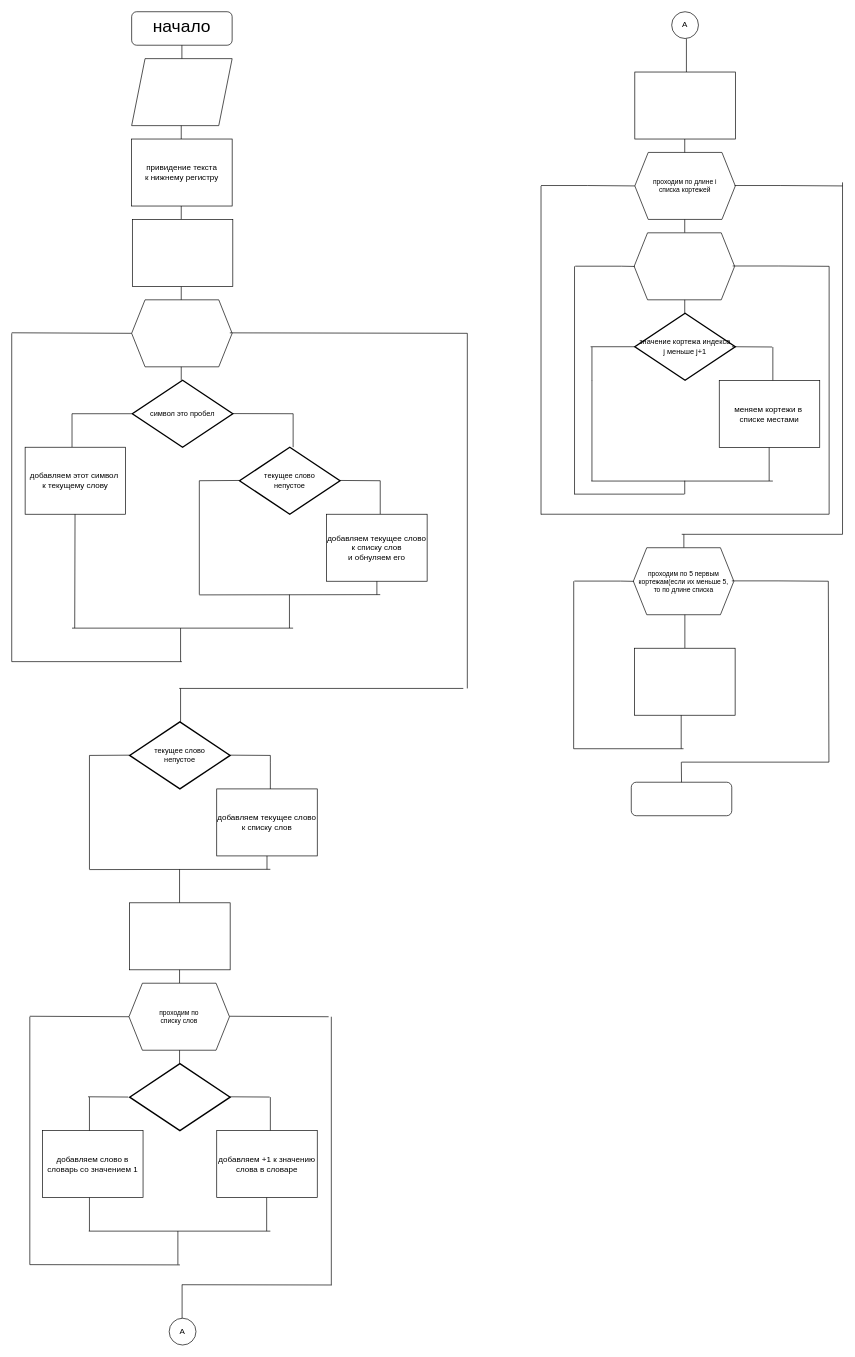
Some shapes in this 855 by 1357 pixel diagram are drawn without their labels. Here are the shapes that lost their labels. From the top down, the box of each, then its label:
(131, 58, 232, 126): ввод текста
(634, 71, 735, 139): создаем список кортежей с парами (ключ:значение) из словаря
(132, 219, 233, 286): создание пустого списка слов и текущего слова
(633, 232, 735, 300): проходим по длине -1 j списка кортежей
(131, 299, 232, 367): проходим по тексту посимвольно
(634, 648, 735, 715): вывод слово:количество повторений
(631, 782, 732, 816): конец
(129, 902, 230, 970): создаем пустой словарь ключ:значение (слово:количество)
(129, 1063, 230, 1131): слово есть в словаре
